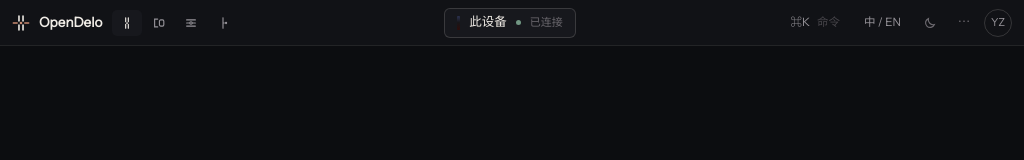
Scenario: 溢出菜单 › Esc 收回菜单并把焦点还给触发它的按钮
The image size is (1024, 160).
Click the button named "更多选项": click(964, 22) [950,8,978,36]
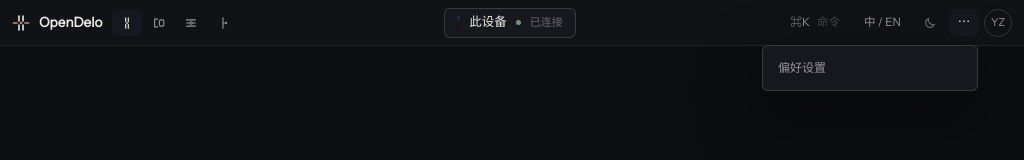
Press Escape in the menu, box [762,44,978,90]
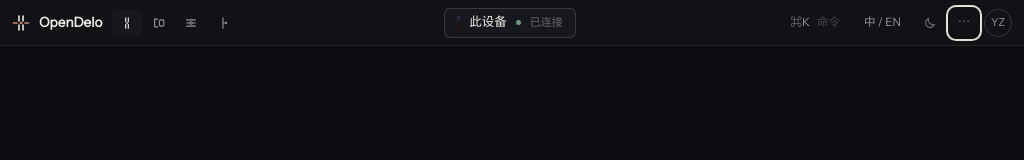
Expected: the menu is gone
